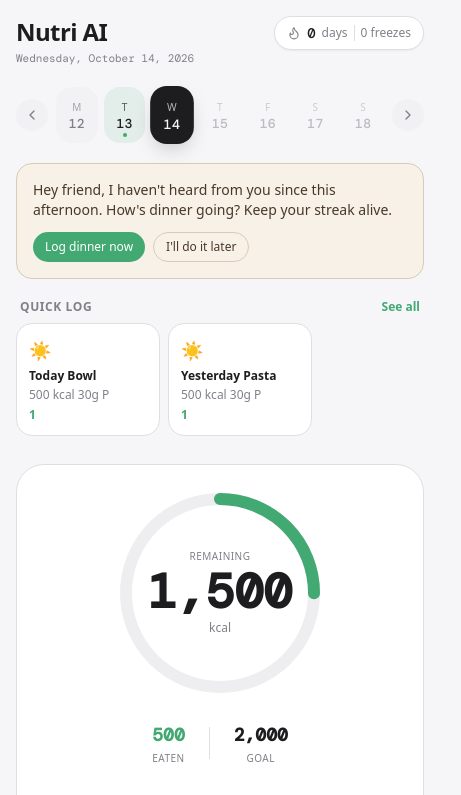
TodayScreen week strip › shows the meals of a previous day when it is clicked
This screenshot has width=461, height=795.
Click the button named "Tuesday".
click(125, 114)  # box [104, 86, 145, 142]
(page scrolled)
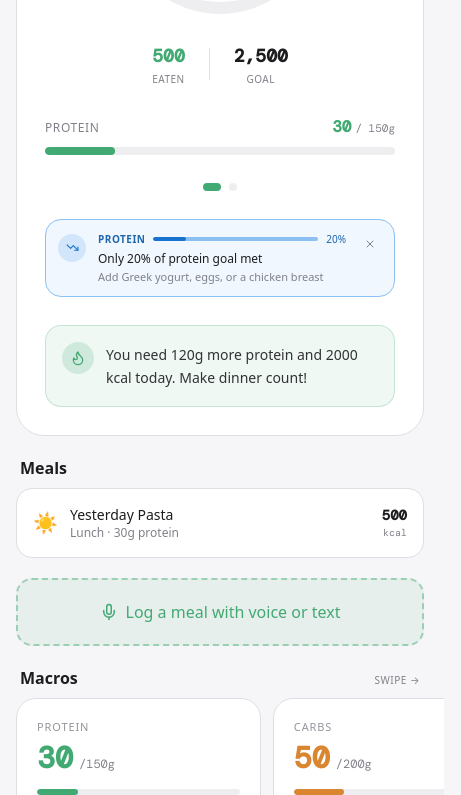
Check: the element "Meals" shows "Yesterday Pasta", box [70, 505, 174, 524]
Check: the button "Meals" no longer shows "Today Bowl"
